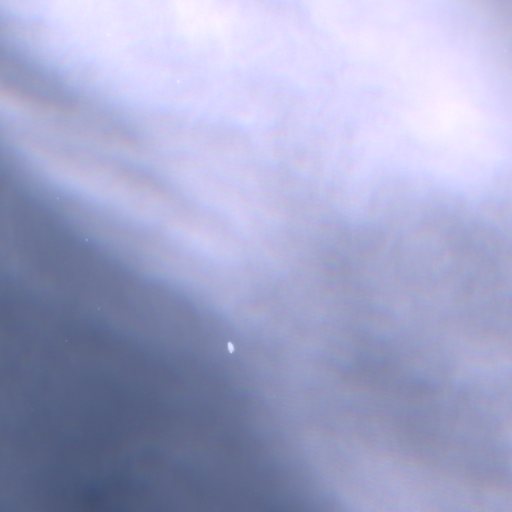Iceberg: (228, 342, 233, 352), (177, 80, 179, 82), (86, 239, 87, 240)
